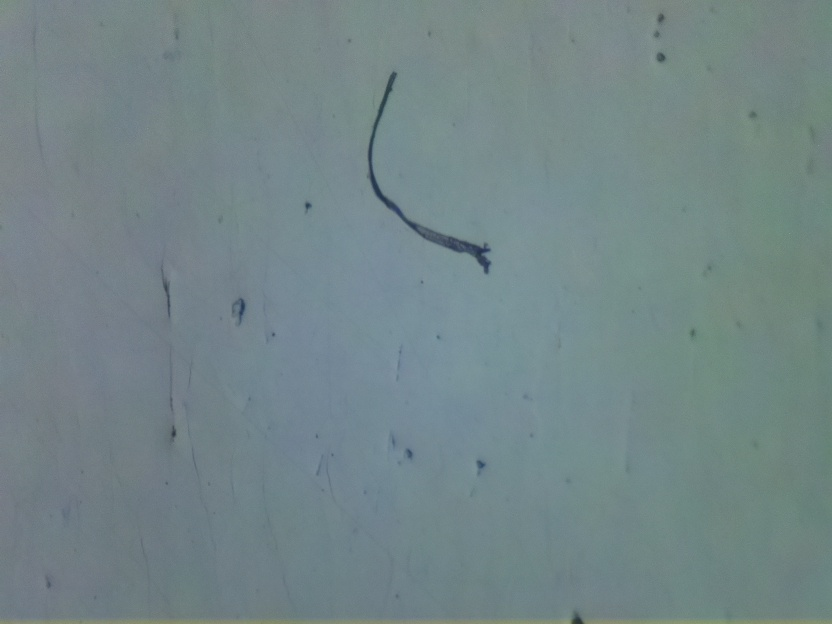crack: (159, 249, 175, 330)
